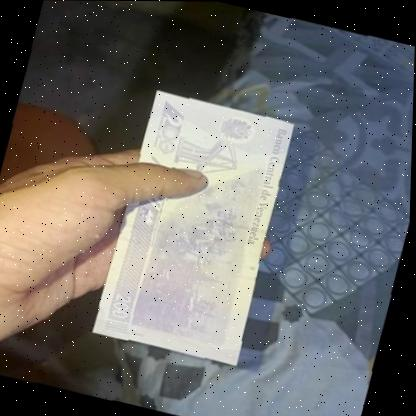vef_back: (92, 89, 301, 367)
